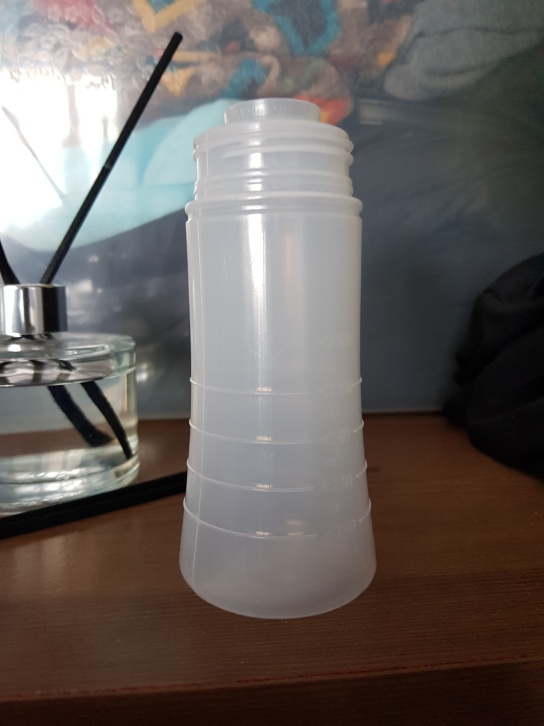Plastic: (176, 92, 384, 620)
